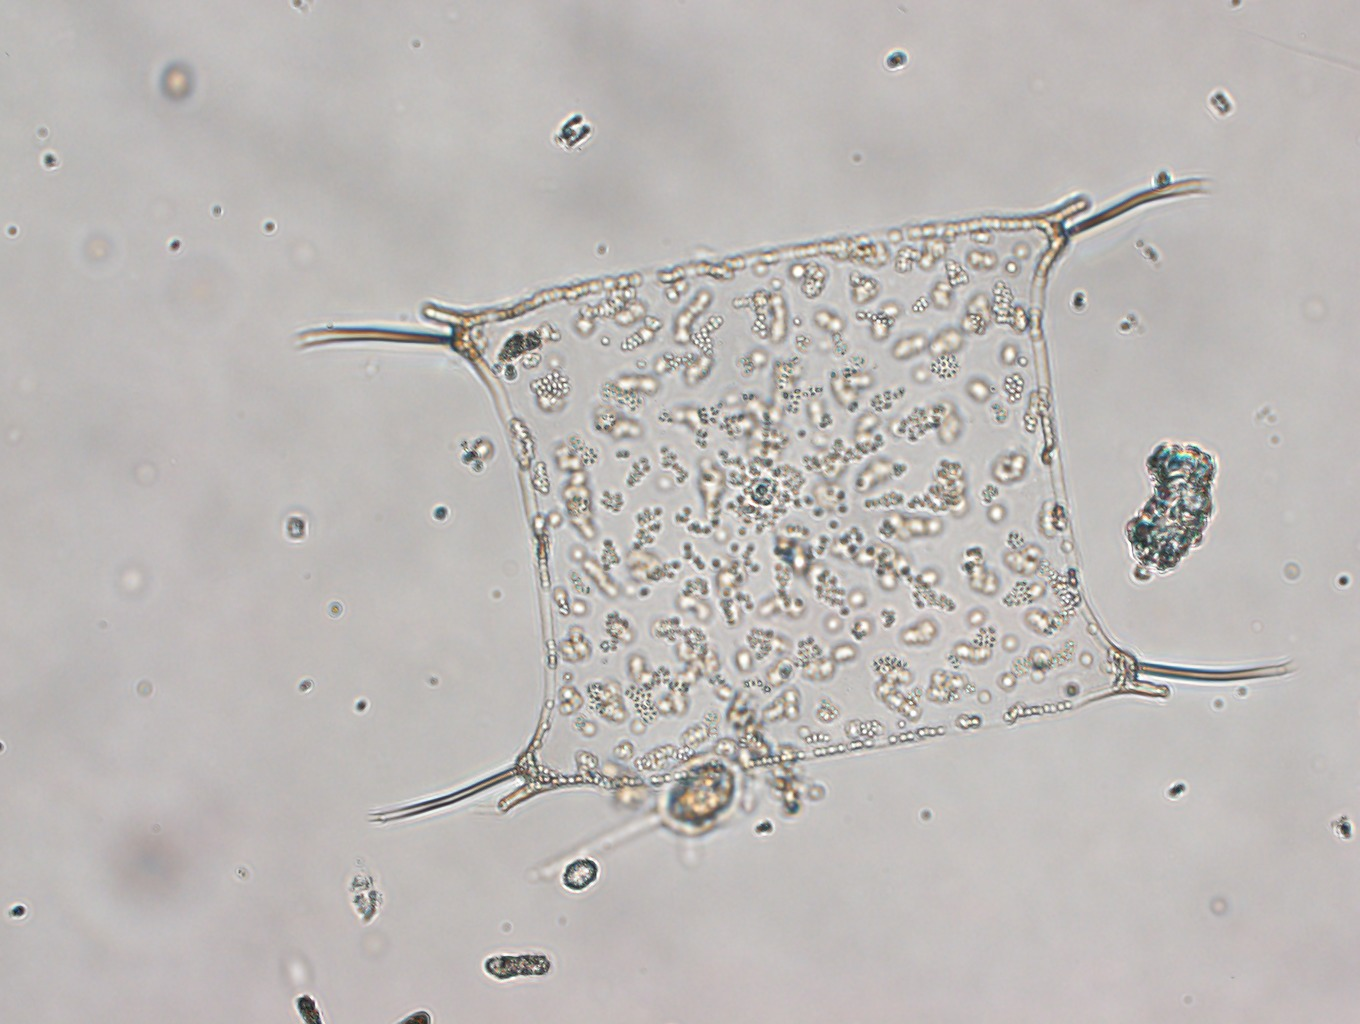biddulphia: (280, 175, 1308, 830)
